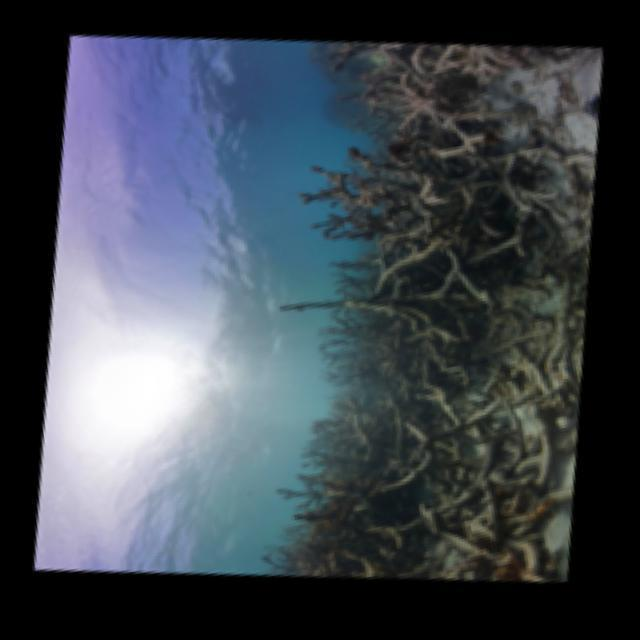Dead Coral: (297, 38, 595, 321), (311, 293, 566, 596)
